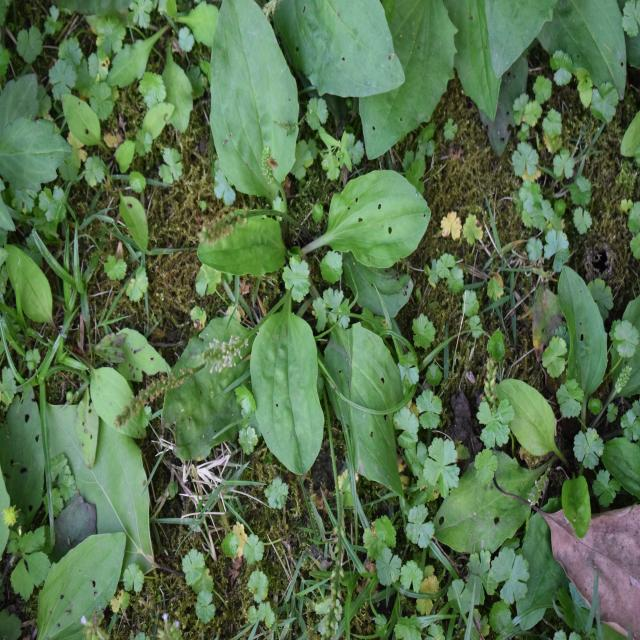plantain: (172, 30, 414, 472)
